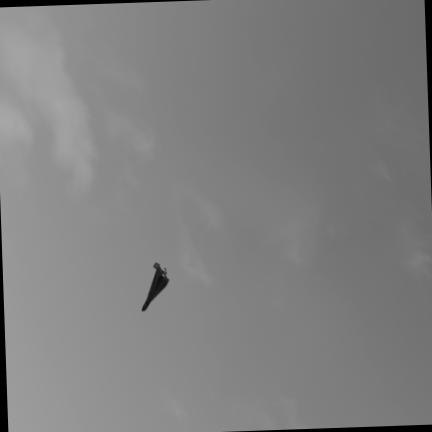Shahed: (142, 263, 168, 311)
